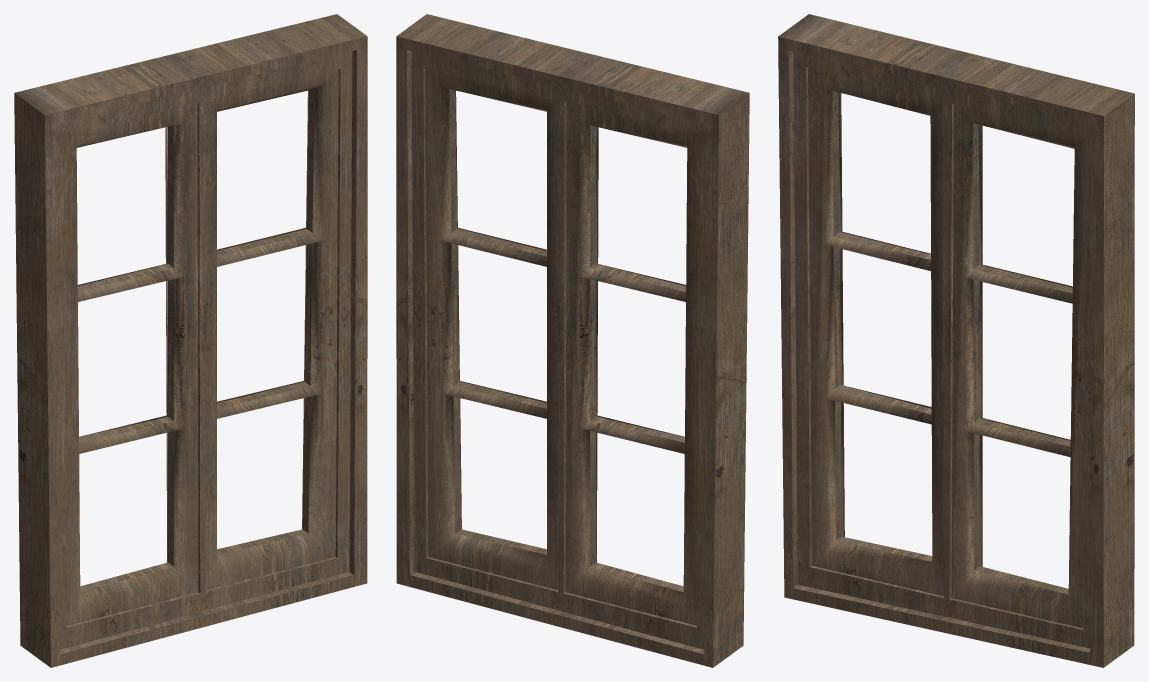
The model's file is window.FBX.
The picture shows the model from 3 angles, left to right: view 1: azimuth 30°, elevation 25°; view 2: azimuth 150°, elevation 25°; view 3: azimuth 330°, elevation 25°; orthographic projection.
Parts seen in each view (by area): view 1: Plane001f002; view 2: Plane001f002; view 3: Plane001f002.
Boxes of the visible parts, bbox=[...] form: Plane001f002: bbox=[14, 14, 367, 667]; Plane001f002: bbox=[396, 14, 749, 667]; Plane001f002: bbox=[778, 14, 1134, 667].
Bounding box in the file's own units: 5.87 × 9.63 × 0.9619.
Materials: 1 (1 with a texture image).
